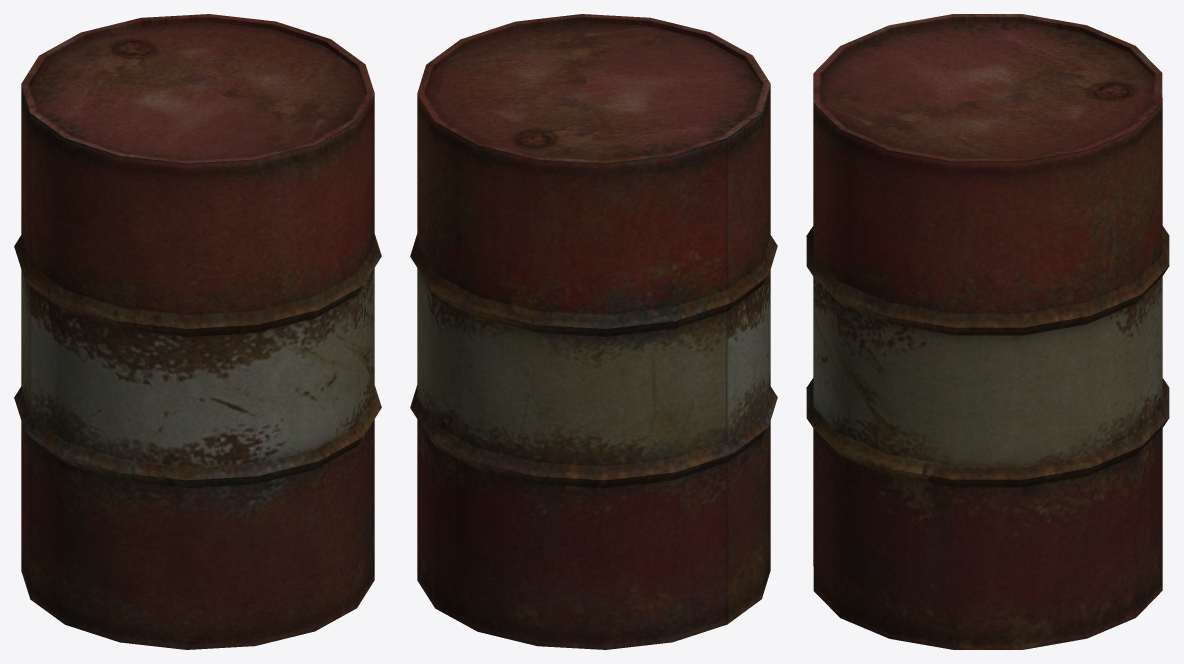
File: metal_barrel_1.obj
3 renders of one model, left to right at view 1: azimuth 30°, elevation 25°; view 2: azimuth 150°, elevation 25°; view 3: azimuth 270°, elevation 25°, orthographic.
Parts seen in each view (by area): view 1: metal_barrel_1; view 2: metal_barrel_1; view 3: metal_barrel_1.
Boxes of the visible parts, bbox=[...] form: metal_barrel_1: bbox=[14, 14, 381, 649]; metal_barrel_1: bbox=[410, 14, 777, 649]; metal_barrel_1: bbox=[806, 14, 1169, 649].
Size of the model in its own units: 0.6735 by 1 by 0.6735.
